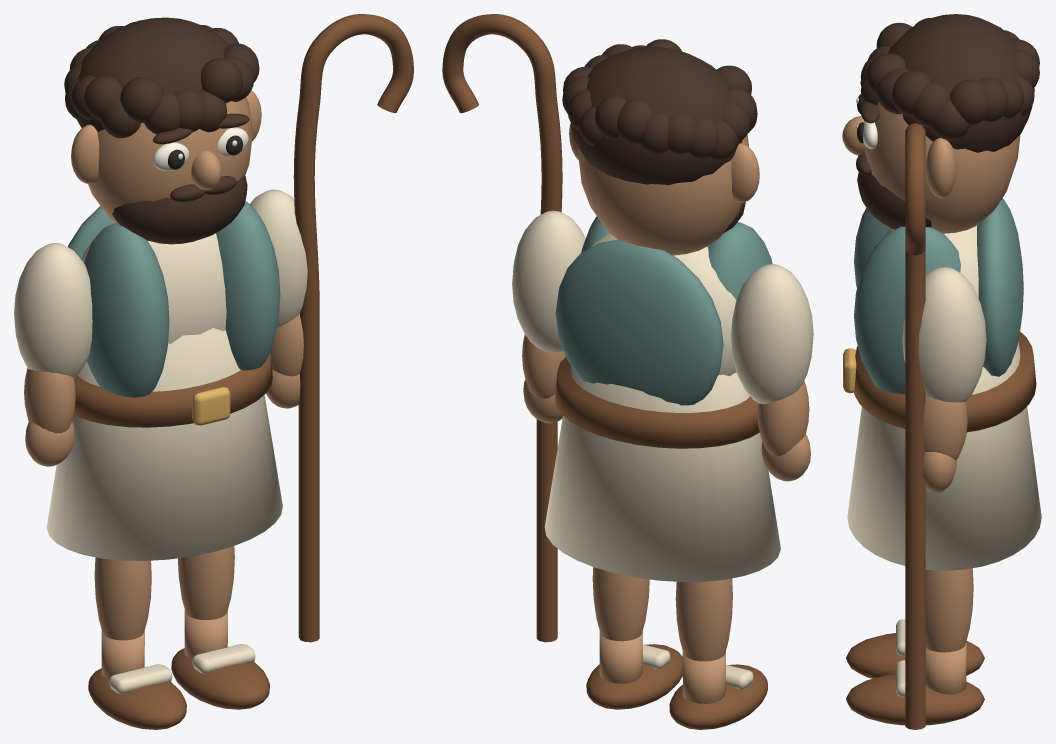
Rendered from shepherd-prototype.glb.
3 views of the same model, side by side, from view 1: azimuth 30°, elevation 25°; view 2: azimuth 150°, elevation 25°; view 3: azimuth 270°, elevation 25° (orthographic).
Parts seen in each view (by area): view 1: Linen tunic, Crook, Vest panel, SleeveL, Hair cap, Vest panel.001, Head, Belt, Torso, Beard, CalfL, SleeveR (+22 smaller); view 2: Linen tunic, Vest back, Hair cap, Crook, Head, SleeveL, Belt, SleeveR, CalfL, CalfR, SandalL, SandalR (+17 smaller); view 3: Linen tunic, Crook, Hair cap, Vest panel.001, Head, SleeveR, Vest back, Belt, SandalR, CalfR, ForearmR, SandalL (+23 smaller).
Boxes of the visible parts, x1,y1,x2,y2 form: Linen tunic: (46, 328, 282, 560); Crook: (293, 14, 413, 642); Vest panel: (84, 222, 169, 397); SleeveL: (14, 243, 92, 378); Hair cap: (76, 17, 228, 131); Vest panel.001: (216, 201, 280, 370); Head: (88, 97, 252, 222); Belt: (73, 352, 272, 427); Torso: (81, 221, 226, 344); Beard: (112, 175, 247, 244); CalfL: (94, 557, 151, 640); SleeveR: (250, 189, 307, 327); Linen tunic: (544, 366, 780, 581); Vest back: (555, 239, 723, 405); Hair cap: (571, 47, 741, 184); Crook: (442, 14, 562, 642); Head: (578, 134, 748, 255); SleeveL: (731, 264, 813, 404); Belt: (554, 357, 759, 448); SleeveR: (512, 210, 585, 352); CalfL: (675, 578, 732, 661); CalfR: (592, 567, 649, 641); SandalL: (669, 664, 767, 729); SandalR: (586, 644, 682, 709); Linen tunic: (847, 341, 1041, 570); Crook: (905, 123, 925, 729); Hair cap: (888, 14, 1034, 152); Vest panel.001: (854, 226, 960, 394); Head: (864, 102, 1020, 233); SleeveR: (902, 267, 986, 402); Vest back: (977, 198, 1023, 376); Belt: (854, 331, 1036, 432); SandalR: (846, 674, 984, 725); CalfR: (925, 568, 973, 652); ForearmR: (923, 396, 967, 460); SandalL: (846, 633, 984, 678).
Size of the model in its own units: 1.37 by 2.3 by 0.6163.
